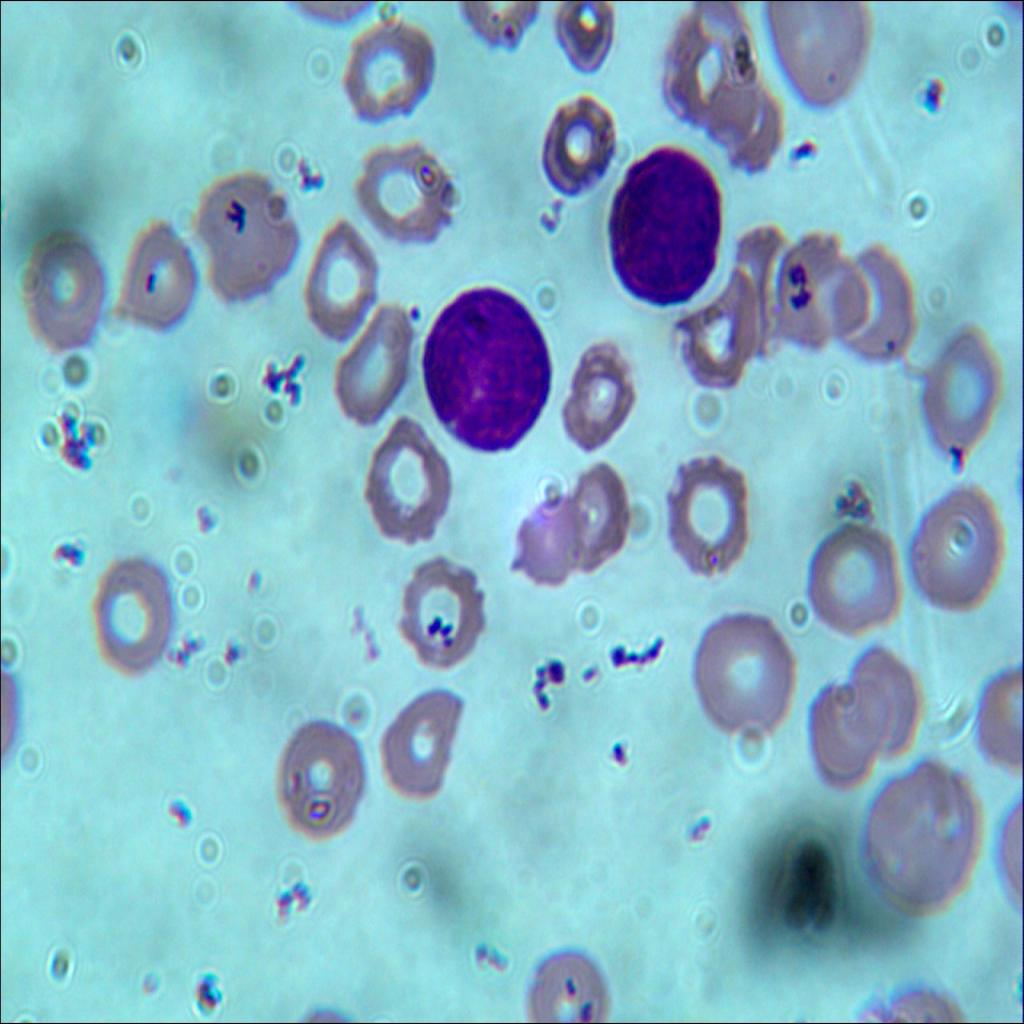Eritrosit: (862, 758, 986, 918), (186, 169, 300, 307), (366, 672, 468, 823), (679, 605, 794, 735), (904, 485, 1006, 618), (819, 241, 924, 370), (770, 0, 874, 128), (355, 401, 448, 542), (916, 316, 1006, 458), (268, 714, 366, 844), (664, 447, 758, 580), (91, 545, 182, 681), (808, 515, 906, 637), (384, 558, 486, 674), (336, 12, 438, 124), (356, 132, 458, 242), (18, 228, 106, 355), (116, 211, 202, 340), (660, 10, 758, 122), (335, 285, 413, 424), (559, 334, 642, 461), (783, 225, 859, 348), (302, 221, 378, 343), (538, 87, 612, 208), (828, 647, 914, 748), (551, 461, 633, 558), (519, 935, 609, 1023), (734, 225, 799, 344), (513, 494, 588, 597), (806, 675, 874, 781), (694, 272, 751, 382), (971, 668, 1023, 778), (543, 2, 623, 72)
Limfoblast: (418, 284, 549, 455), (603, 145, 728, 312)
Platelet: (403, 294, 429, 331), (578, 662, 603, 696), (608, 735, 634, 765), (878, 328, 900, 360)
